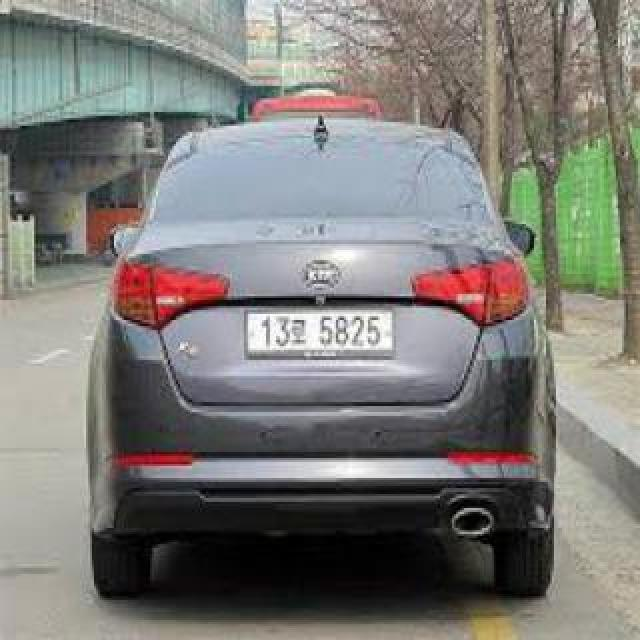car: (82, 100, 570, 605)
illegal_plate: (247, 306, 396, 362)
